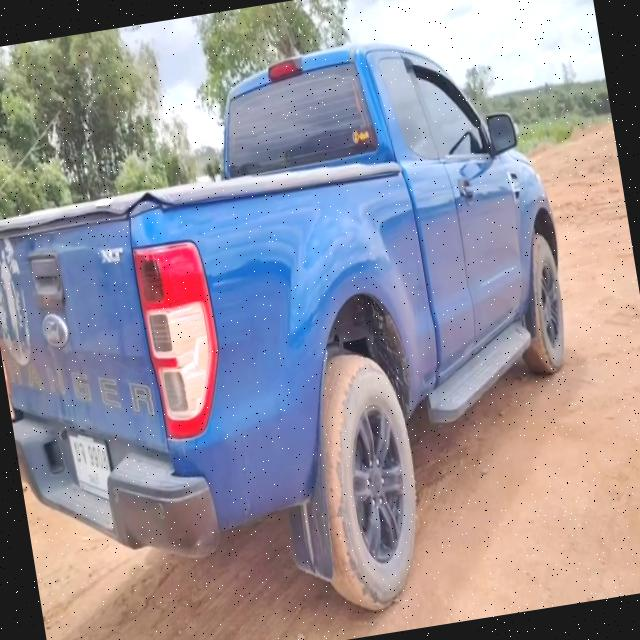Digit: (86, 440, 108, 472)
Licenseplate: (68, 431, 117, 503)
Provincename: (86, 472, 102, 491)
Thaichar: (73, 438, 87, 464)
